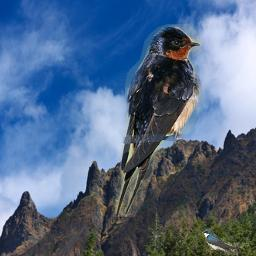Swallow: (111, 24, 202, 217), (202, 229, 238, 255)
